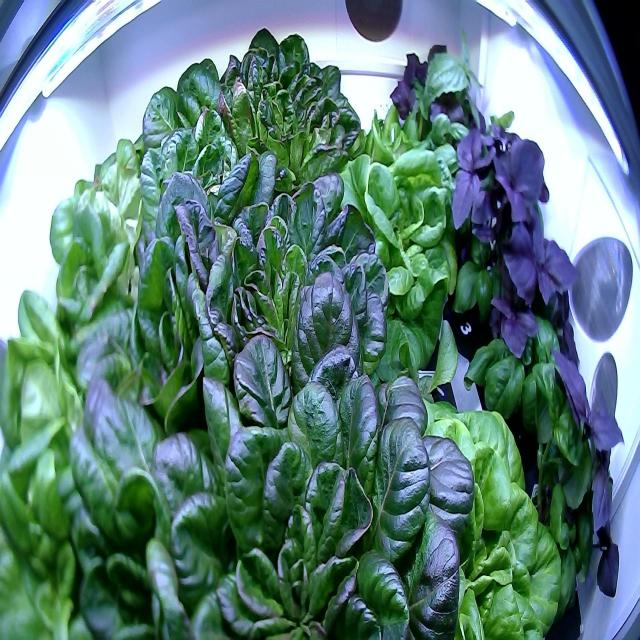Ready: (132, 314, 478, 640), (201, 135, 398, 421), (353, 384, 571, 640), (45, 356, 239, 640), (113, 146, 261, 438), (0, 278, 115, 638), (307, 144, 457, 376), (209, 14, 372, 211), (44, 119, 147, 328), (134, 31, 250, 201)
young: (376, 310, 464, 430), (337, 94, 445, 185)
